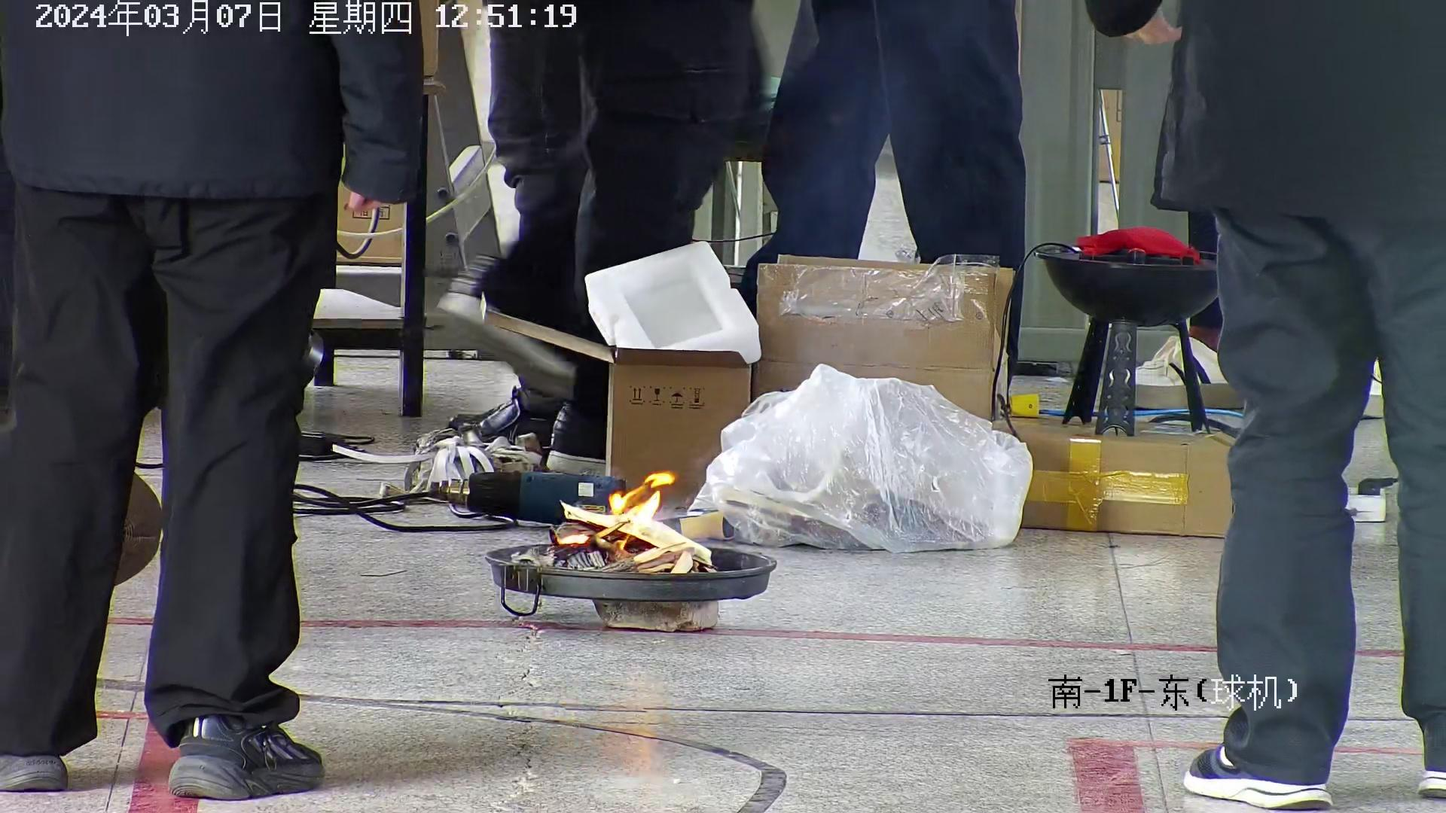fire: (553, 471, 676, 559)
